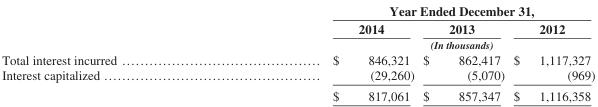table: (1, 1, 594, 103)
table column: (1, 1, 224, 103), (224, 1, 418, 103), (418, 1, 508, 103), (508, 1, 594, 103)
table column header: (1, 1, 594, 50)
table row: (1, 84, 594, 103), (1, 1, 594, 19), (1, 19, 594, 37), (1, 66, 594, 84), (1, 50, 594, 66), (1, 37, 594, 50)
table spanning cell: (224, 1, 594, 19), (224, 37, 594, 50)
